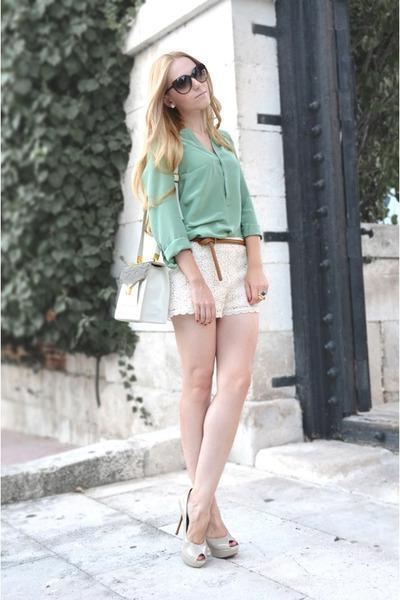Shorts: (156, 239, 270, 322)
long sleeve shirt: (138, 128, 265, 271)
